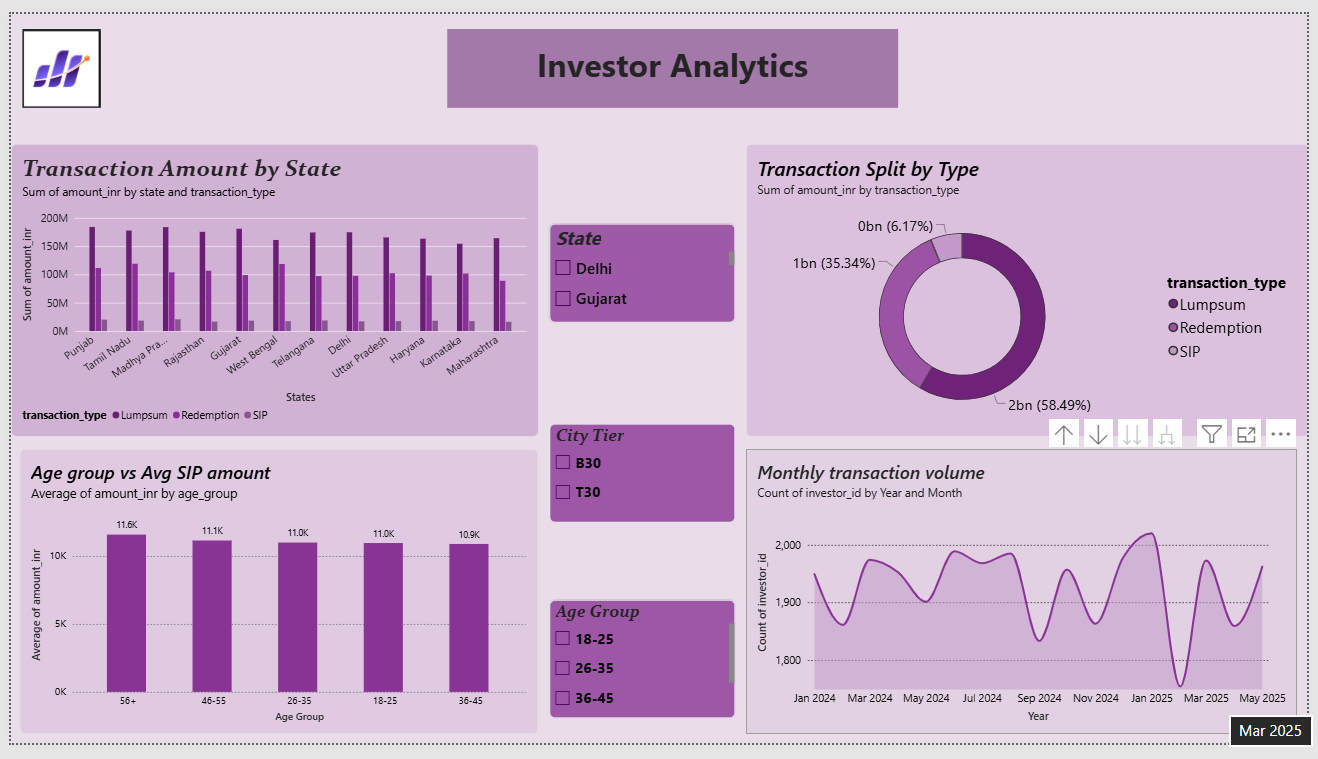

What the dashboard file says about the page in this screenshot:
{"tool":"powerbi","page":{"name":"Investor Analytics","canvas":[1920,1080],"ordinal":2},"visuals":[{"type":"clusteredColumnChart","title":"Transaction Amount by State","fields":{"Category":["08_investor_transactions.state"],"Series":["08_investor_transactions.transaction_type"],"Y":["Sum(08_investor_transactions.amount_inr)"]},"box":[0,193.2,781.4,433.9],"z":0},{"type":"donutChart","title":"Transaction Split by Type","fields":{"Category":["08_investor_transactions.transaction_type"],"Y":["Sum(08_investor_transactions.amount_inr)"]},"box":[1088.1,193.2,833.9,433.9],"z":1000},{"type":"clusteredColumnChart","title":"Age group vs Avg SIP amount","fields":{"Category":["08_investor_transactions.age_group"],"Y":["Avg(08_investor_transactions.amount_inr)"]},"box":[13.6,644.1,767.8,422],"z":2000},{"type":"lineChart","title":"Monthly transaction volume","fields":{"Category":["08_investor_transactions.transaction_date.Variation.Date Hierarchy.Year","08_investor_transactions.transaction_date.Variation.Date Hierarchy.Month"],"Y":["CountNonNull(08_investor_transactions.investor_id)"]},"box":[1088.1,644.1,816.9,422],"z":3000},{"type":"slicer","fields":{"Values":["08_investor_transactions.state"]},"box":[798.3,311.9,274.6,145.8],"z":3001},{"type":"slicer","fields":{"Values":["08_investor_transactions.city_tier"]},"box":[798.3,606.8,274.6,145.8],"z":3003},{"type":"slicer","fields":{"Values":["08_investor_transactions.age_group"]},"box":[798.3,867.8,274.6,174.6],"z":3004},{"type":"image","box":[13.6,22,123.7,116.9],"z":3005},{"type":"textbox","box":[645.8,22,667.8,116.9],"z":3006}]}

Visuals, with their boxes in screenshot pixels (x1, y1, x2, y2), scaled from the page's 1920x1080 canvas onto the 1318x759 screenshot:
"Transaction Amount by State" clusteredColumnChart: bbox(0, 136, 536, 441)
"Transaction Split by Type" donutChart: bbox(747, 136, 1317, 441)
"Age group vs Avg SIP amount" clusteredColumnChart: bbox(9, 453, 536, 749)
"Monthly transaction volume" lineChart: bbox(747, 453, 1308, 749)
slicer - 08_investor_transactions.state: bbox(548, 219, 737, 322)
slicer - 08_investor_transactions.city_tier: bbox(548, 426, 737, 529)
slicer - 08_investor_transactions.age_group: bbox(548, 610, 737, 733)
image: bbox(9, 15, 94, 98)
textbox: bbox(443, 15, 902, 98)
